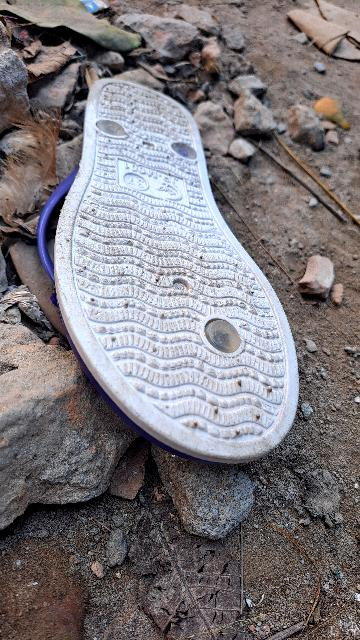sandal: (6, 73, 290, 515)
